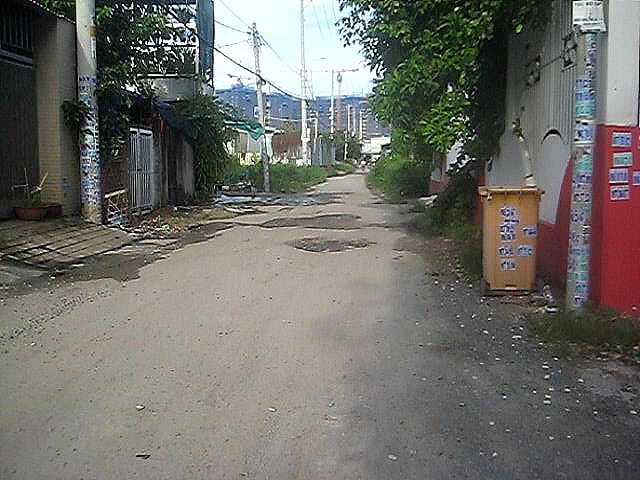hole: (259, 213, 362, 231), (280, 235, 375, 253), (273, 190, 352, 204)
